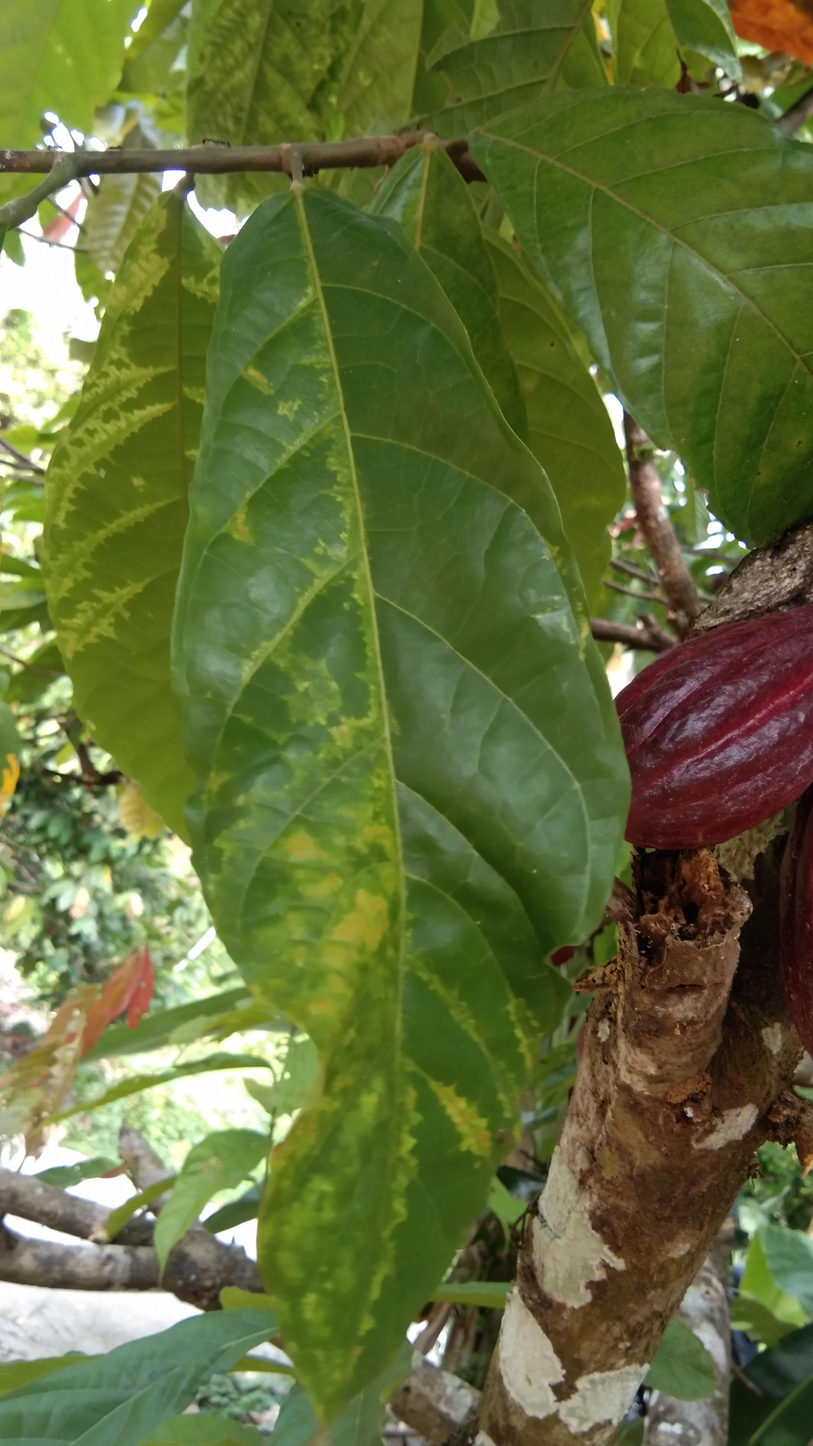deficiencia_potasio: (163, 175, 661, 1446)
